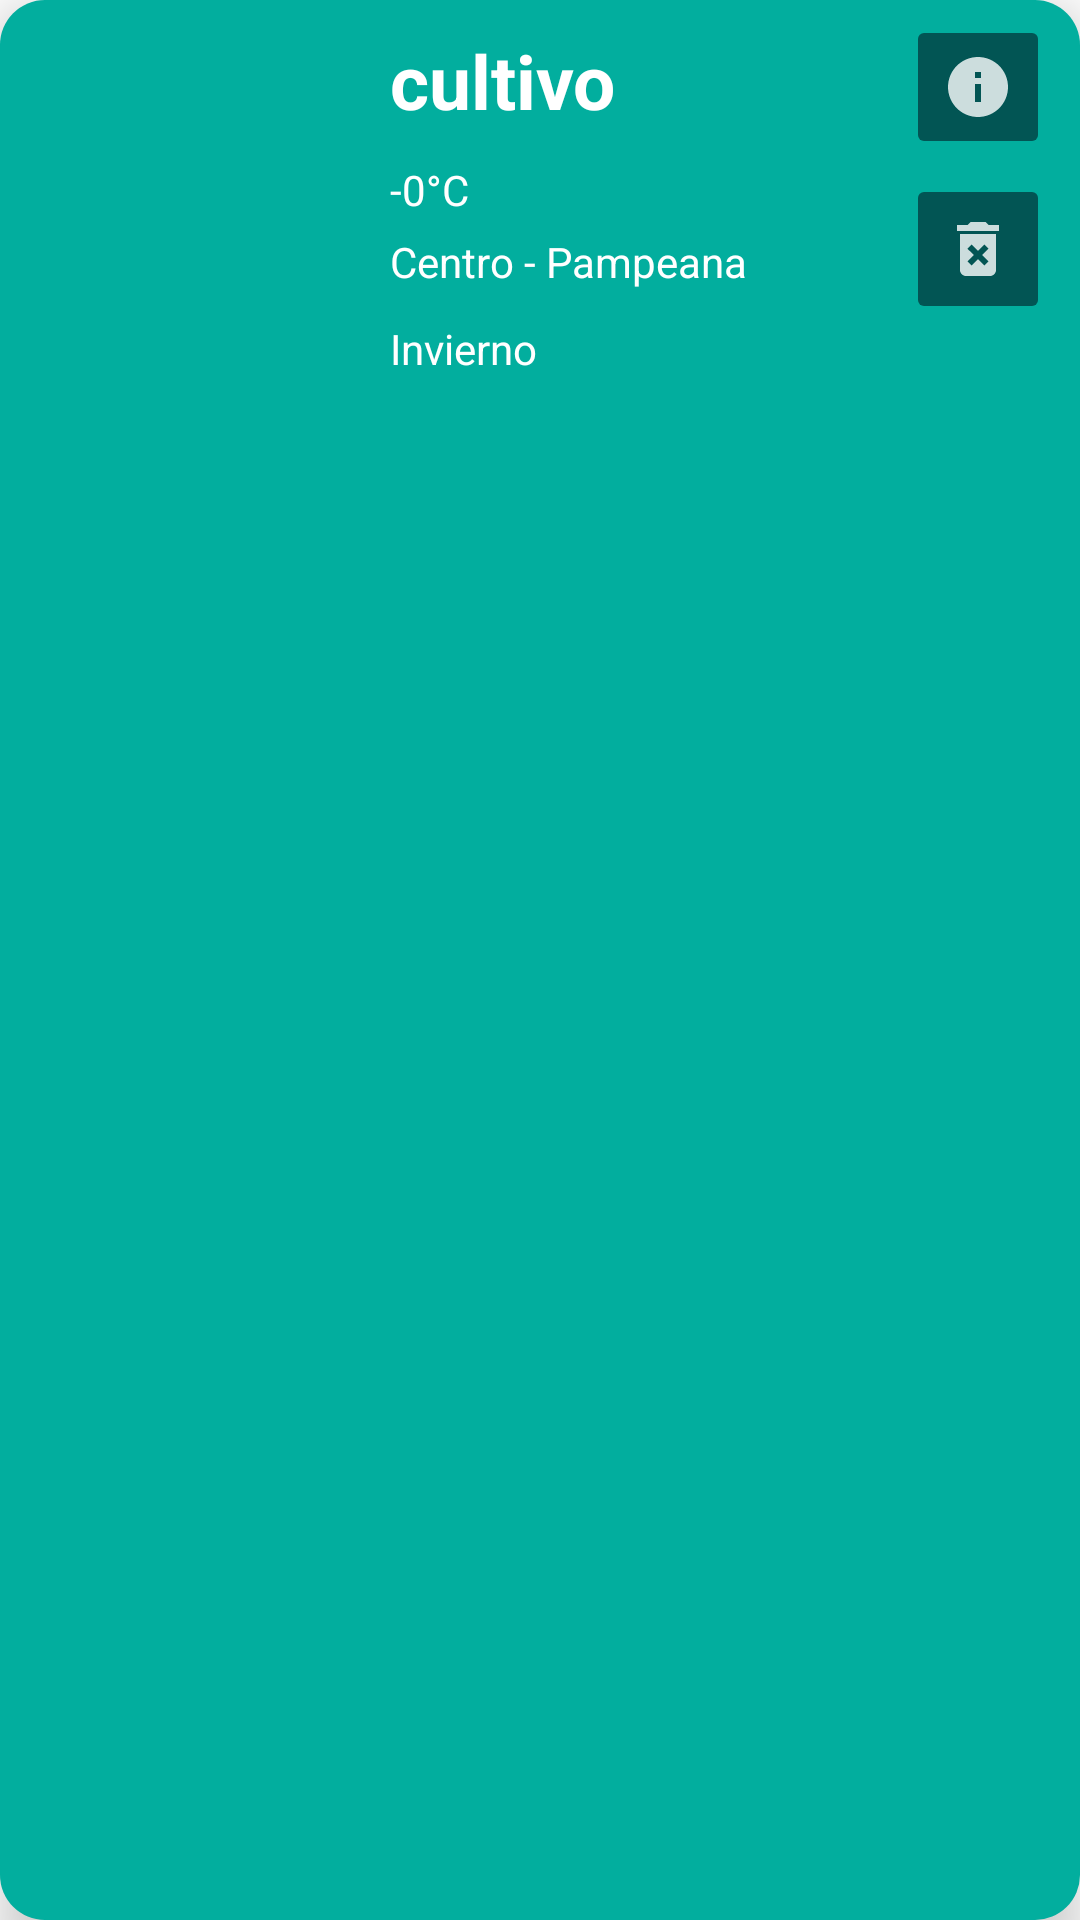

Icons on this 1080px x 1920px Android screen, each with the point to tap as [x,y]:
Eliminar de fav: [978,249]
Info: [978,87]
